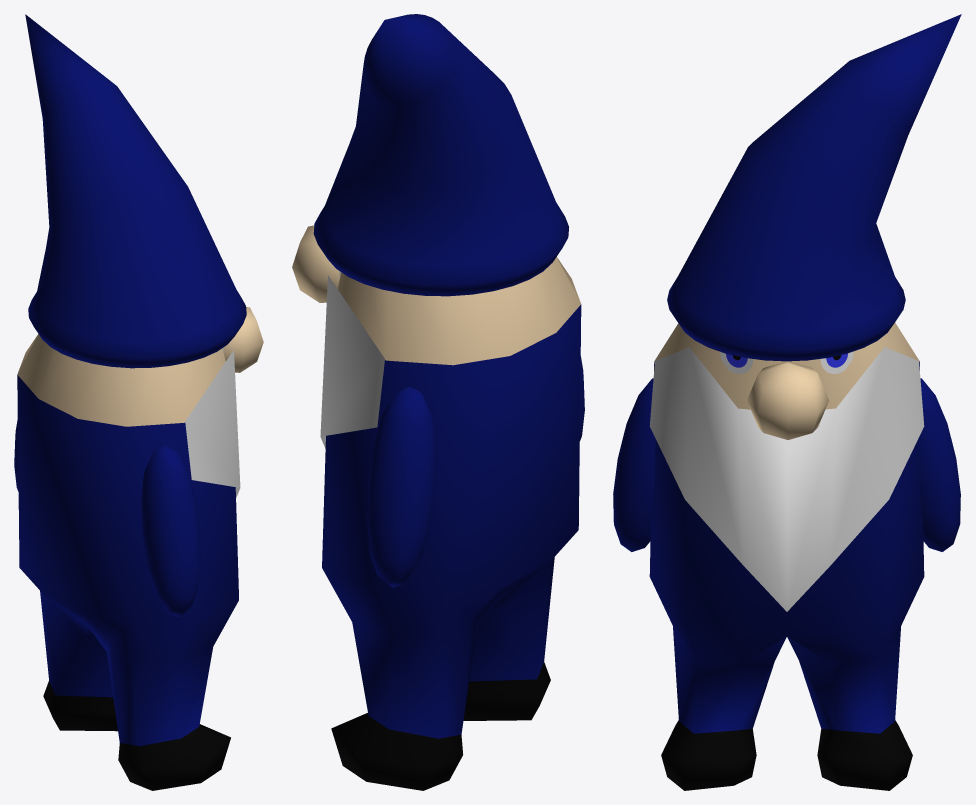
File: BlaNiseBein.gltf
The picture shows the model from 3 angles, left to right: view 1: azimuth 30°, elevation 25°; view 2: azimuth 150°, elevation 25°; view 3: azimuth 270°, elevation 25°; orthographic projection. The views are drawn at different scales.
Parts seen in each view (by area): view 1: Cube.026; view 2: Cube.026; view 3: Cube.026.
Boxes of the visible parts, <box> form: Cube.026: <box>14,14,263,790</box>; Cube.026: <box>292,14,584,790</box>; Cube.026: <box>613,14,961,790</box>.
Bounding box in the file's own units: 5.68 × 16.73 × 7.12.
